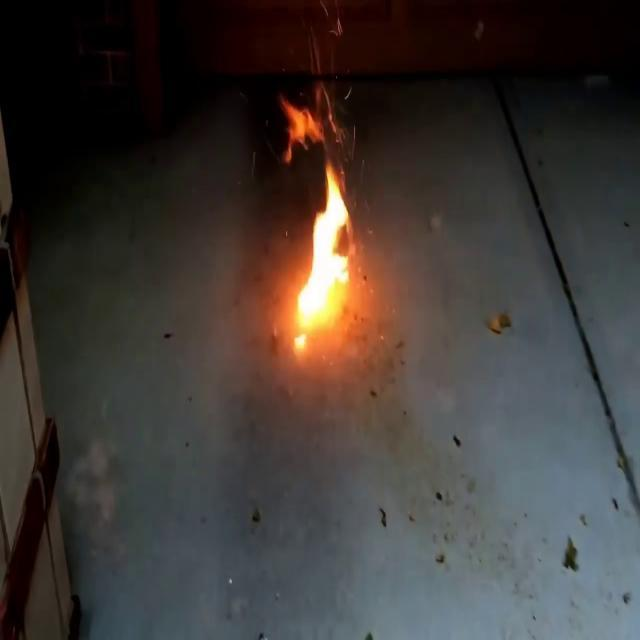Fire: (290, 150, 362, 348)
